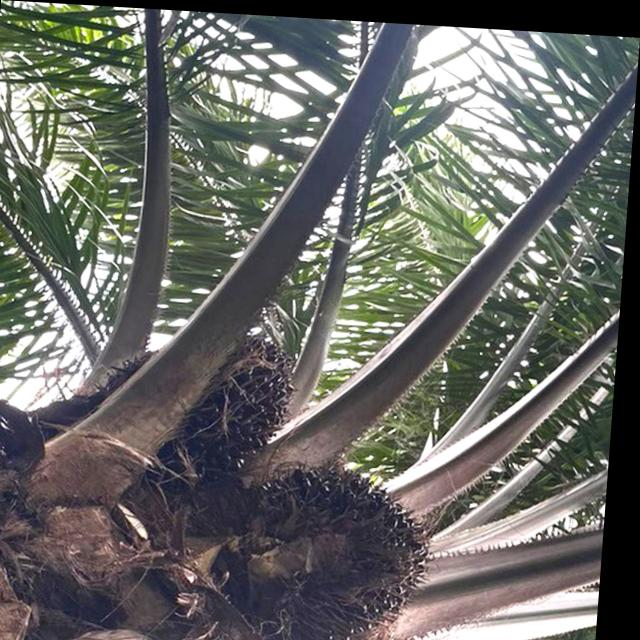almost: (234, 454, 454, 640), (95, 320, 309, 474)
